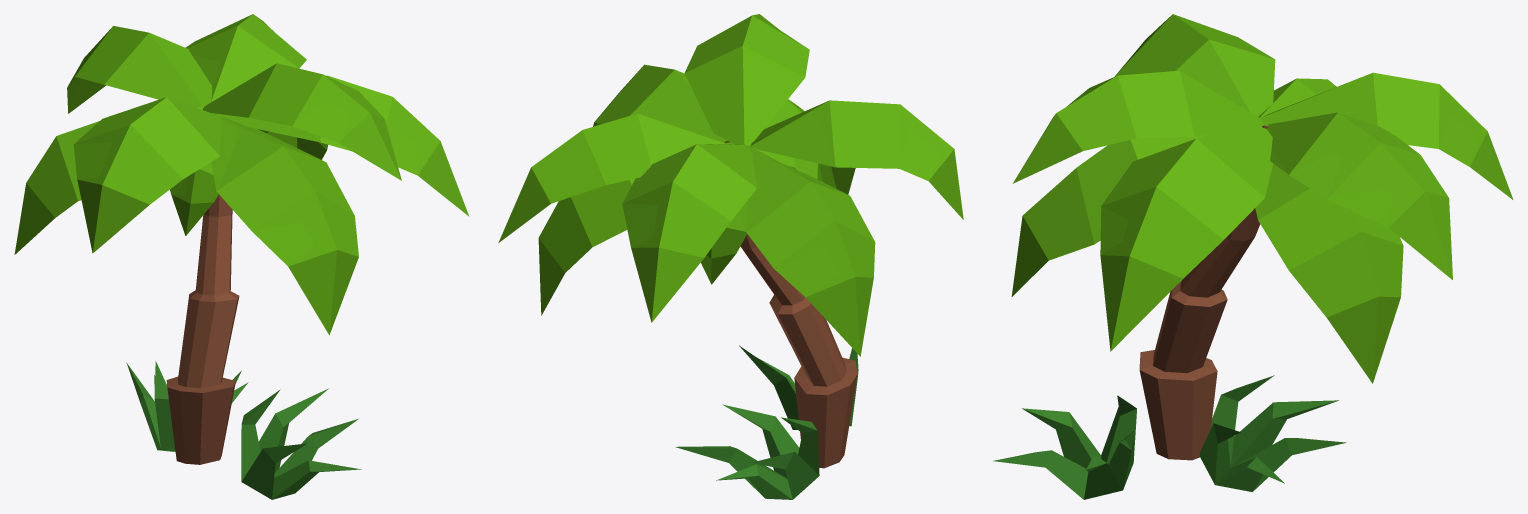
File: tree_1.FBX
3 views of the same model, side by side, from view 1: azimuth 30°, elevation 25°; view 2: azimuth 150°, elevation 25°; view 3: azimuth 270°, elevation 25° (orthographic). The views are drawn at different scales.
Parts seen in each view (by area): view 1: tree_1; view 2: tree_1; view 3: tree_1.
Boxes of the visible parts, x1=… form: tree_1: x1=14, y1=14, x2=469, y2=499; tree_1: x1=498, y1=14, x2=963, y2=499; tree_1: x1=993, y1=14, x2=1513, y2=499.
Size of the model in its own units: 10.63 by 11.42 by 11.82.
